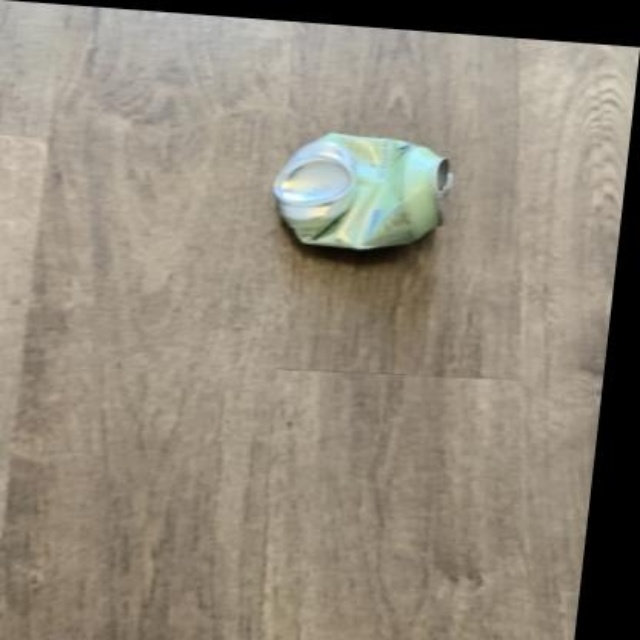trash: (272, 132, 451, 248)
